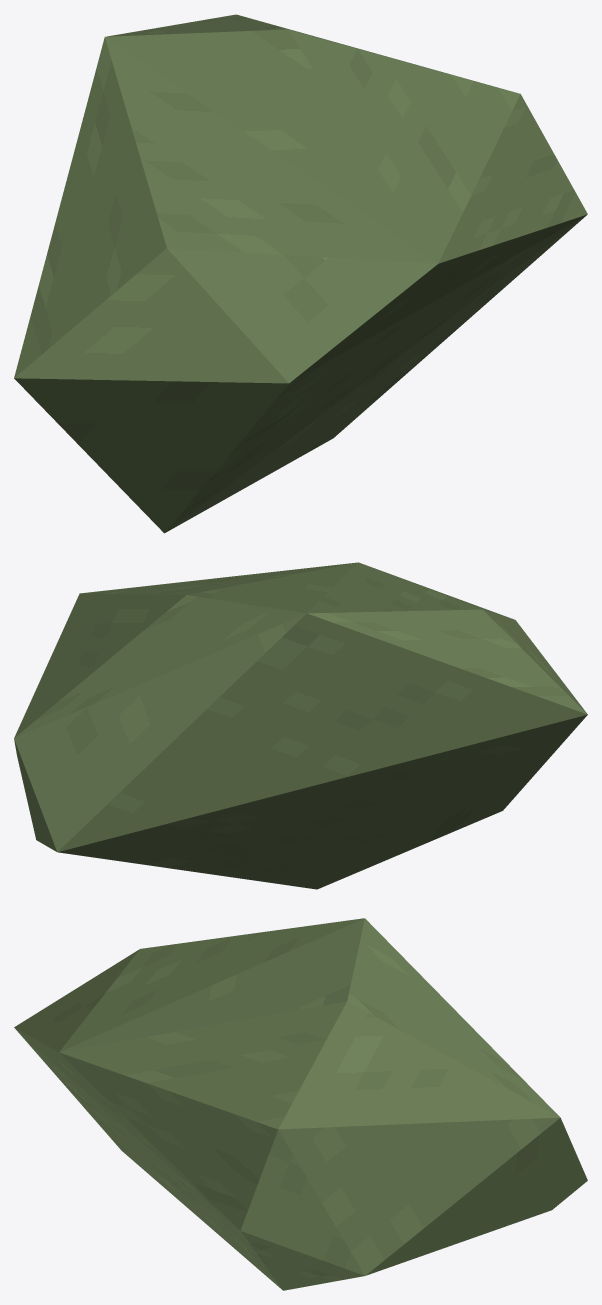
File: plastic_chunk.glb
3 renders of one model, top to bottom at view 1: azimuth 30°, elevation 25°; view 2: azimuth 150°, elevation 25°; view 3: azimuth 270°, elevation 25°, orthographic. The views are drawn at different scales.
Visible parts, largest first — view 1: block_irregular fragment; view 2: block_irregular fragment; view 3: block_irregular fragment.
Boxes of the visible parts, x1,y1,x2,y2 form: block_irregular fragment: (14, 14, 587, 533); block_irregular fragment: (14, 562, 587, 889); block_irregular fragment: (14, 918, 587, 1290).
Bounding box in the file's own units: 0.0599 × 0.0375 × 0.0619.
Materials: 1 (1 with a texture image).
